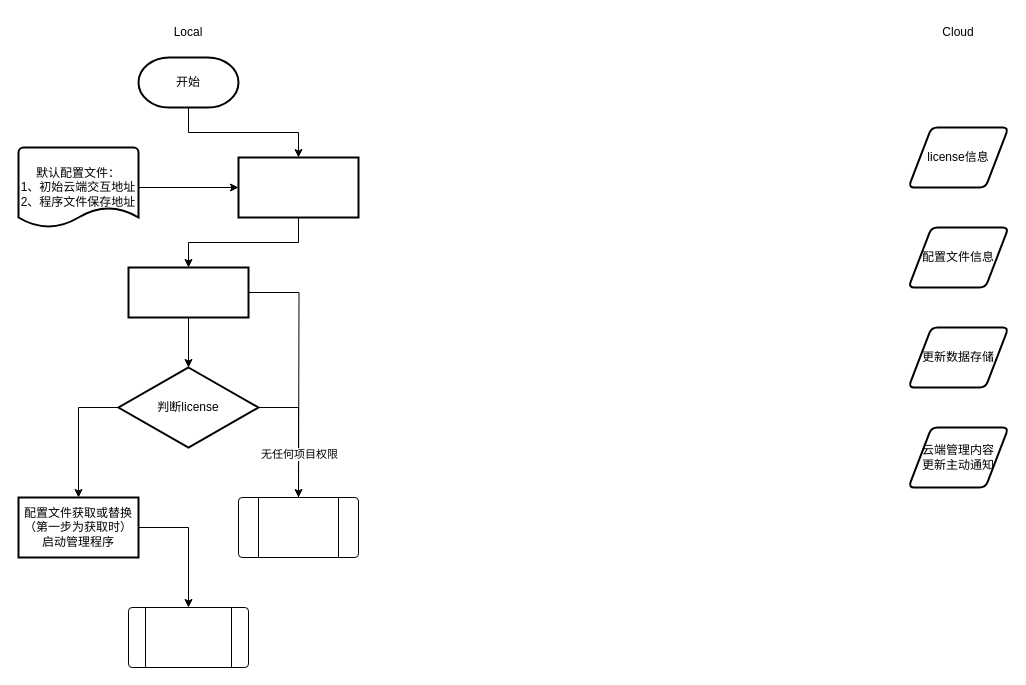
Image size: 1026x685. Some labels were removed from this diagram. Here are the shapes that lost their labels. From the top down, the centre of each, then its label:
the point at 298,187: 进程初始化 云端通信获取可变配置文件
the point at 188,292: 对云端请求license信息
the point at 298,527: 等待云端主动通知
the point at 188,637: 持续监听管理程序运行状态
